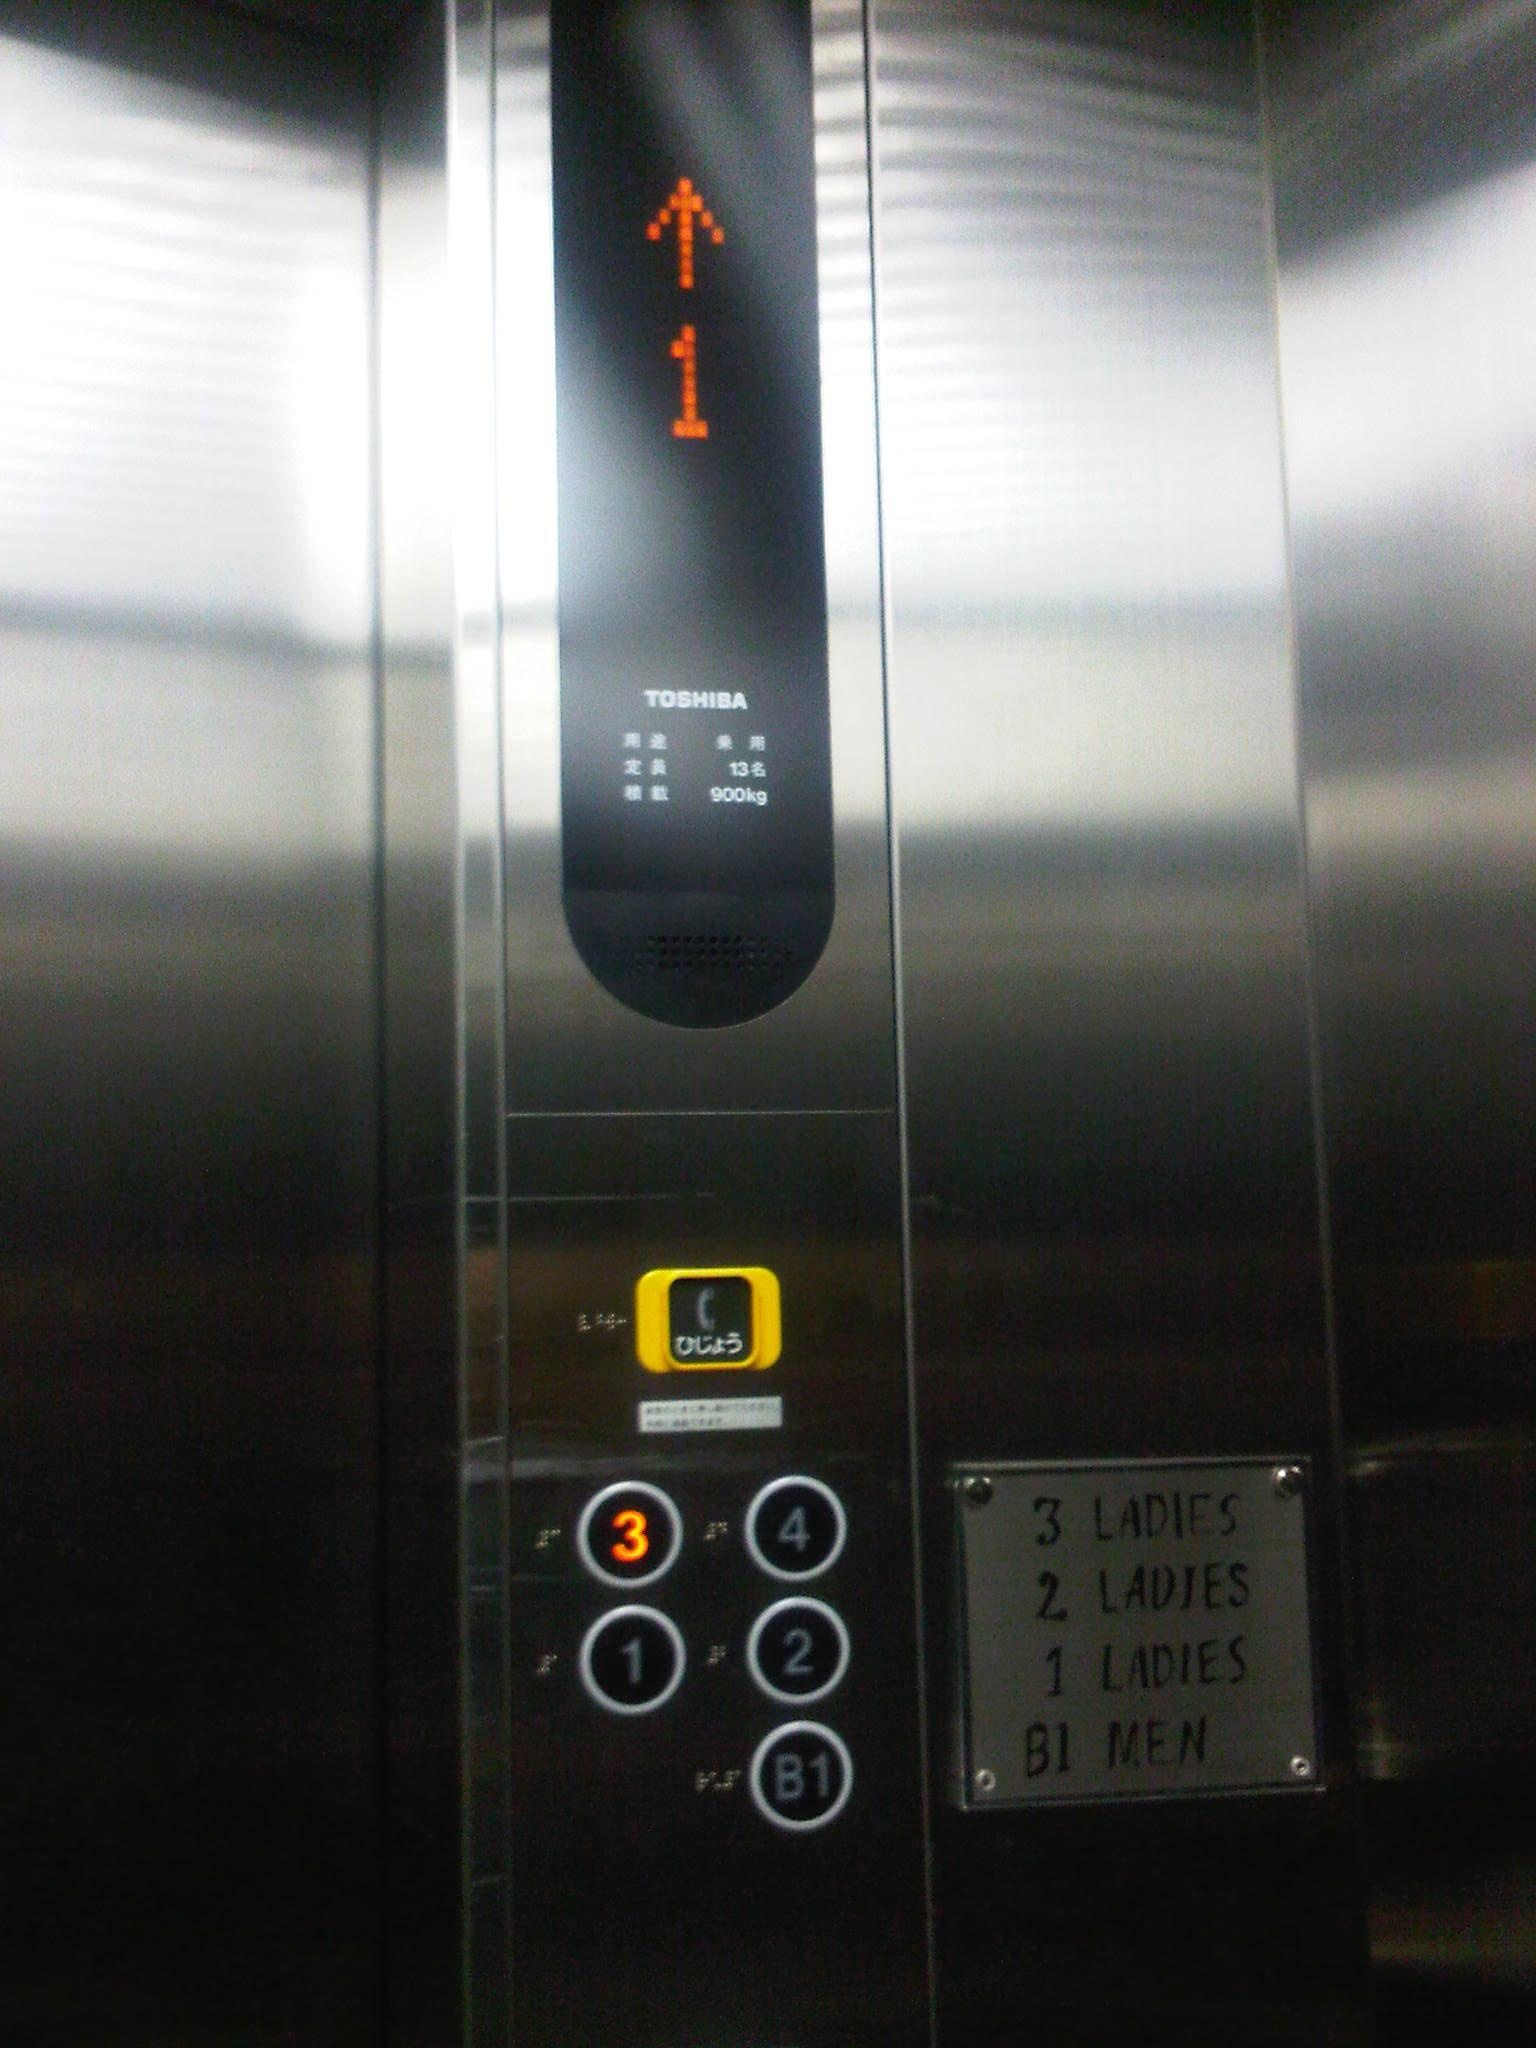1: (578, 1596, 691, 1716)
2: (742, 1593, 854, 1705)
3: (574, 1474, 687, 1588)
4: (742, 1472, 849, 1580)
B1: (745, 1717, 855, 1835)
call: (634, 1266, 786, 1372)
led: (549, 2, 850, 1043)
